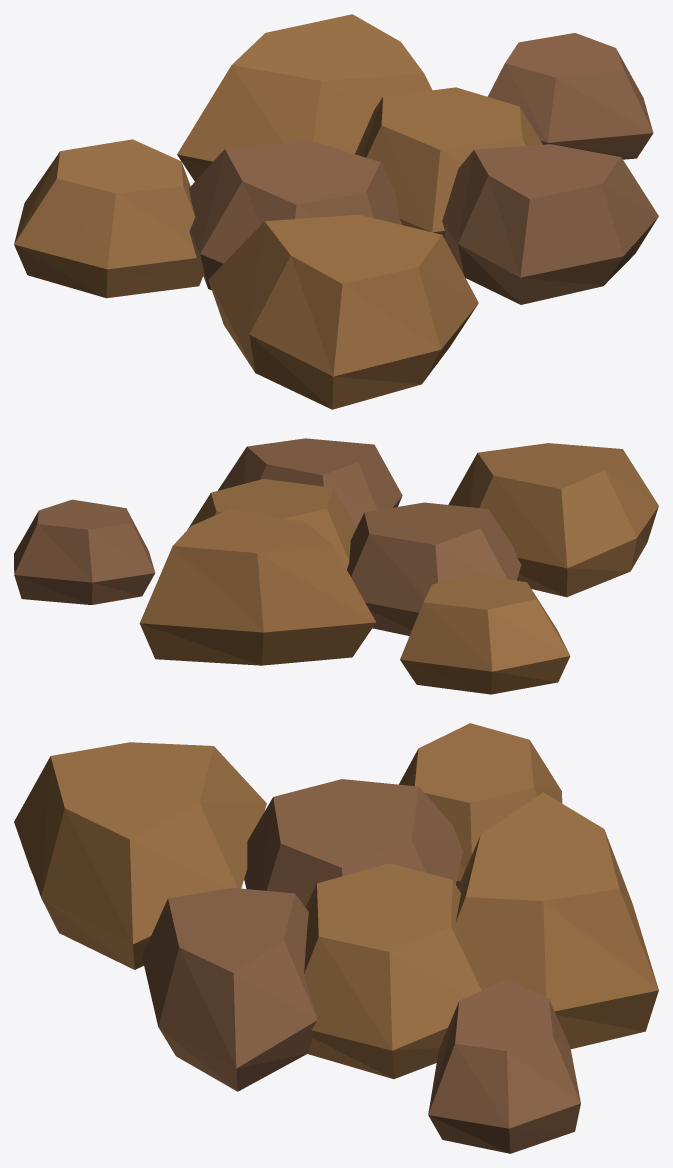
Rendered from rock_pebble_cluster_a.glb.
3 renders of one model, top to bottom at view 1: azimuth 30°, elevation 25°; view 2: azimuth 150°, elevation 25°; view 3: azimuth 270°, elevation 25°, orthographic. The views are drawn at different scales.
Parts seen in each view (by area): view 1: rock_pebble_cluster_a_LOD0_stone; view 2: rock_pebble_cluster_a_LOD0_stone; view 3: rock_pebble_cluster_a_LOD0_stone.
Part boxes in pixels (x1=…): rock_pebble_cluster_a_LOD0_stone: x1=14, y1=14, x2=658, y2=409; rock_pebble_cluster_a_LOD0_stone: x1=14, y1=438, x2=658, y2=694; rock_pebble_cluster_a_LOD0_stone: x1=14, y1=723, x2=658, y2=1153.
Size of the model in its own units: 0.94 by 0.2111 by 0.752.
